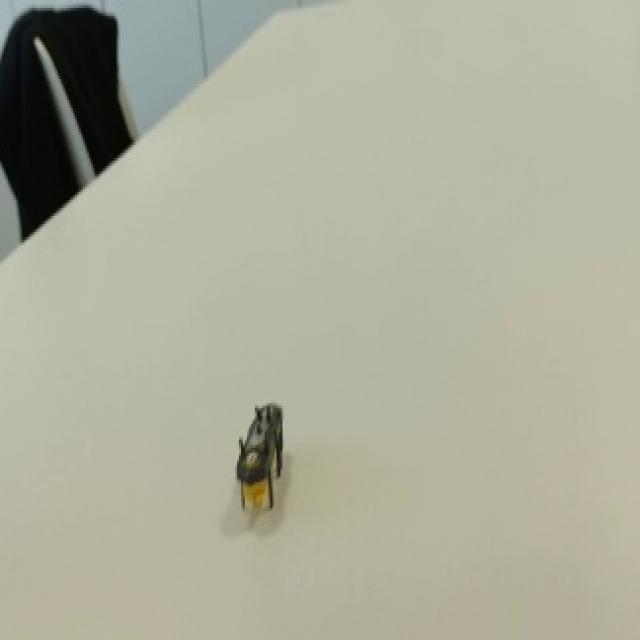6_NanoBug_GrisOscuro: (200, 361, 314, 557)
